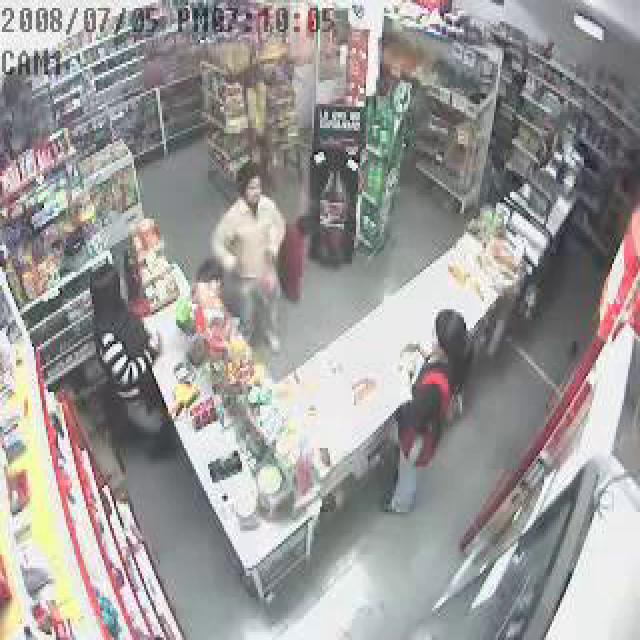robbery: (146, 131, 521, 597)
